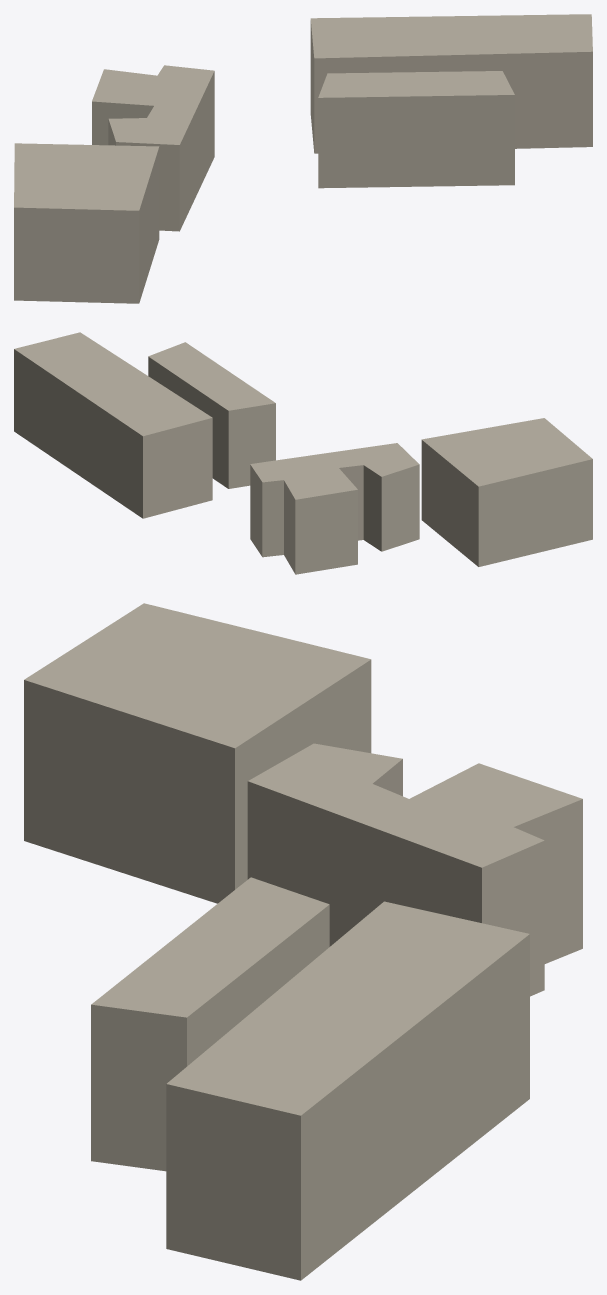
The model's file is senglea_57_32_mid.glb.
The picture shows the model from 3 angles, top to bottom: view 1: azimuth 30°, elevation 25°; view 2: azimuth 150°, elevation 25°; view 3: azimuth 270°, elevation 25°; orthographic projection. The views are drawn at different scales.
Visible parts, largest first — view 1: geometry_0; view 2: geometry_0; view 3: geometry_0.
Part boxes in pixels (bbox=[...]): geometry_0: bbox=[14, 14, 592, 303]; geometry_0: bbox=[14, 332, 592, 574]; geometry_0: bbox=[24, 603, 582, 1280].
Bounding box in the file's own units: 88.91 × 13.89 × 39.87.
